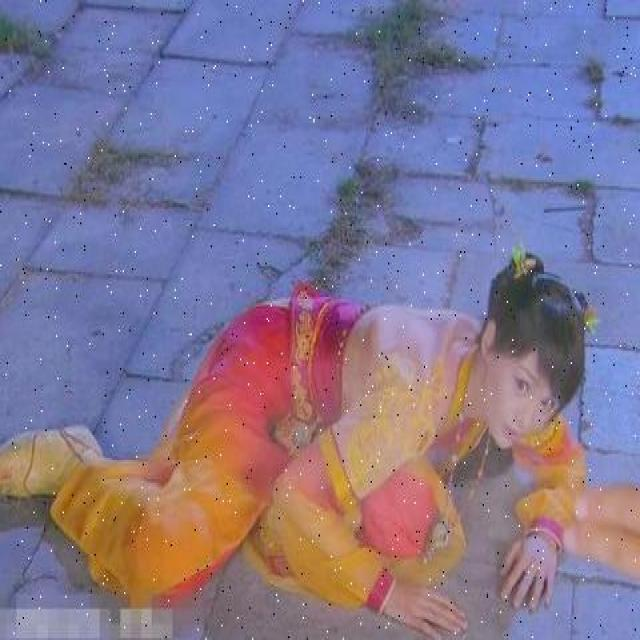fall: (60, 284, 583, 578)
